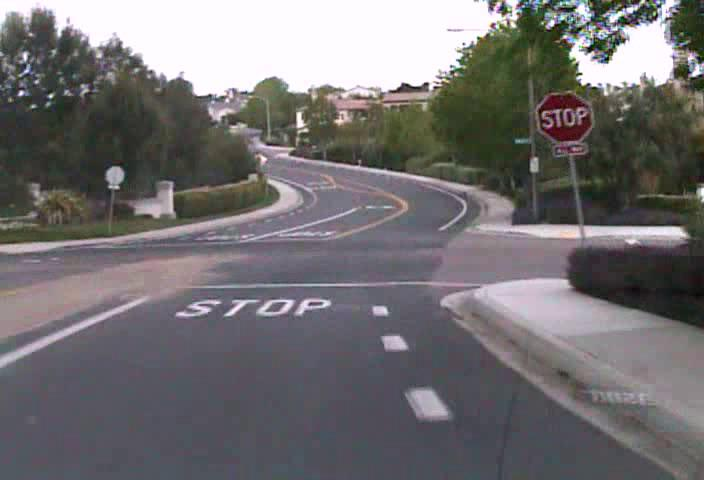stop: (535, 90, 594, 145)
